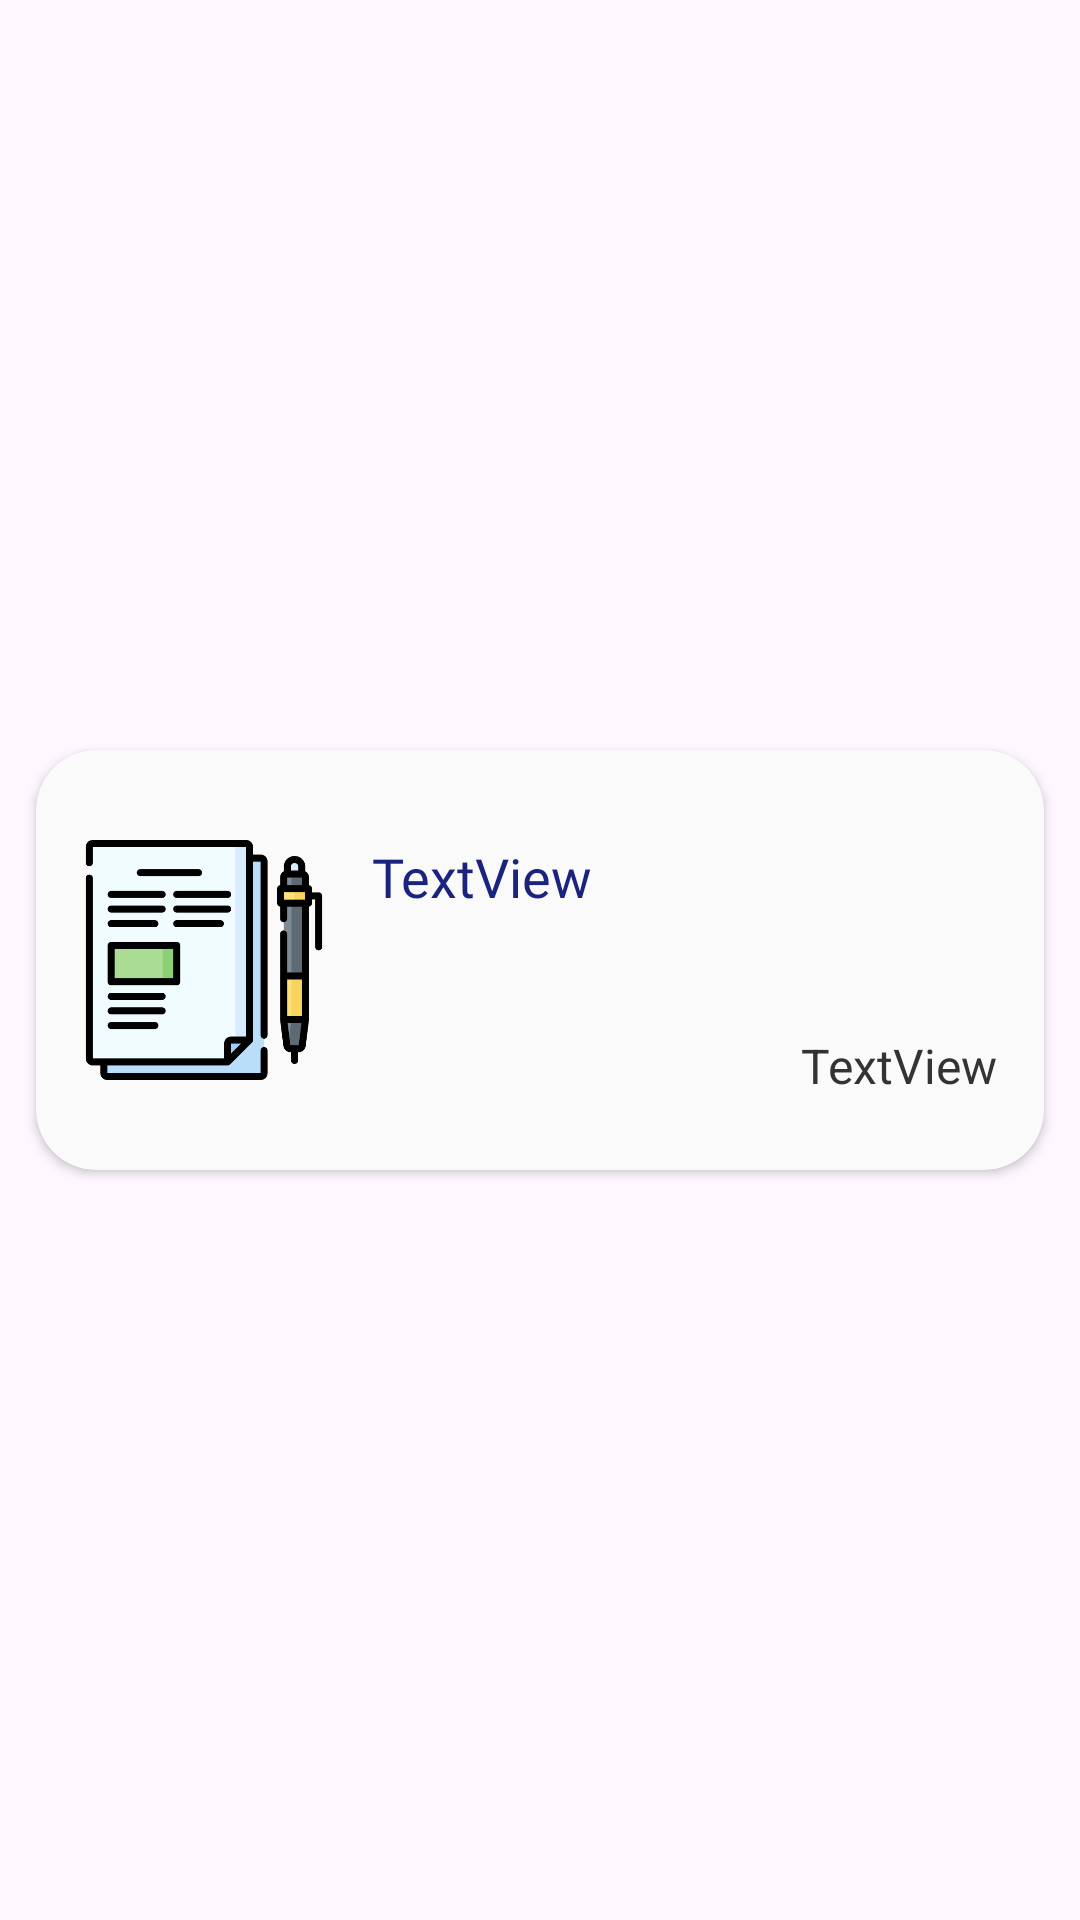

Named icons in this screenshot (1080px×1920px) and their centers, (x,y):
news articles: (204,960)
